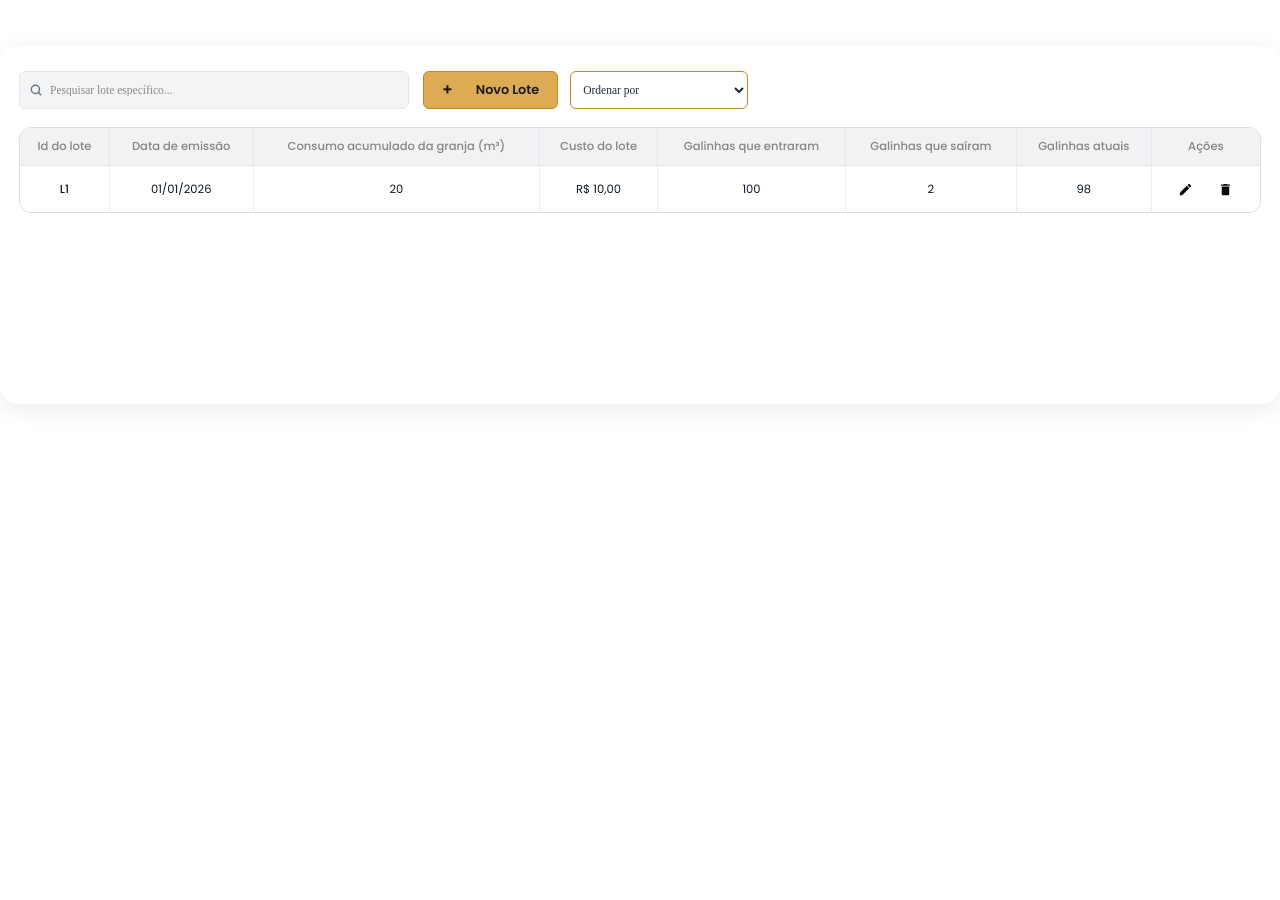
Test: Editar lote L1 › preserva o diálogo quando salvar falha e permite fechar
Click the button named "Editar lote L1" at coordinates (1186, 189), box [1171,174,1201,204]
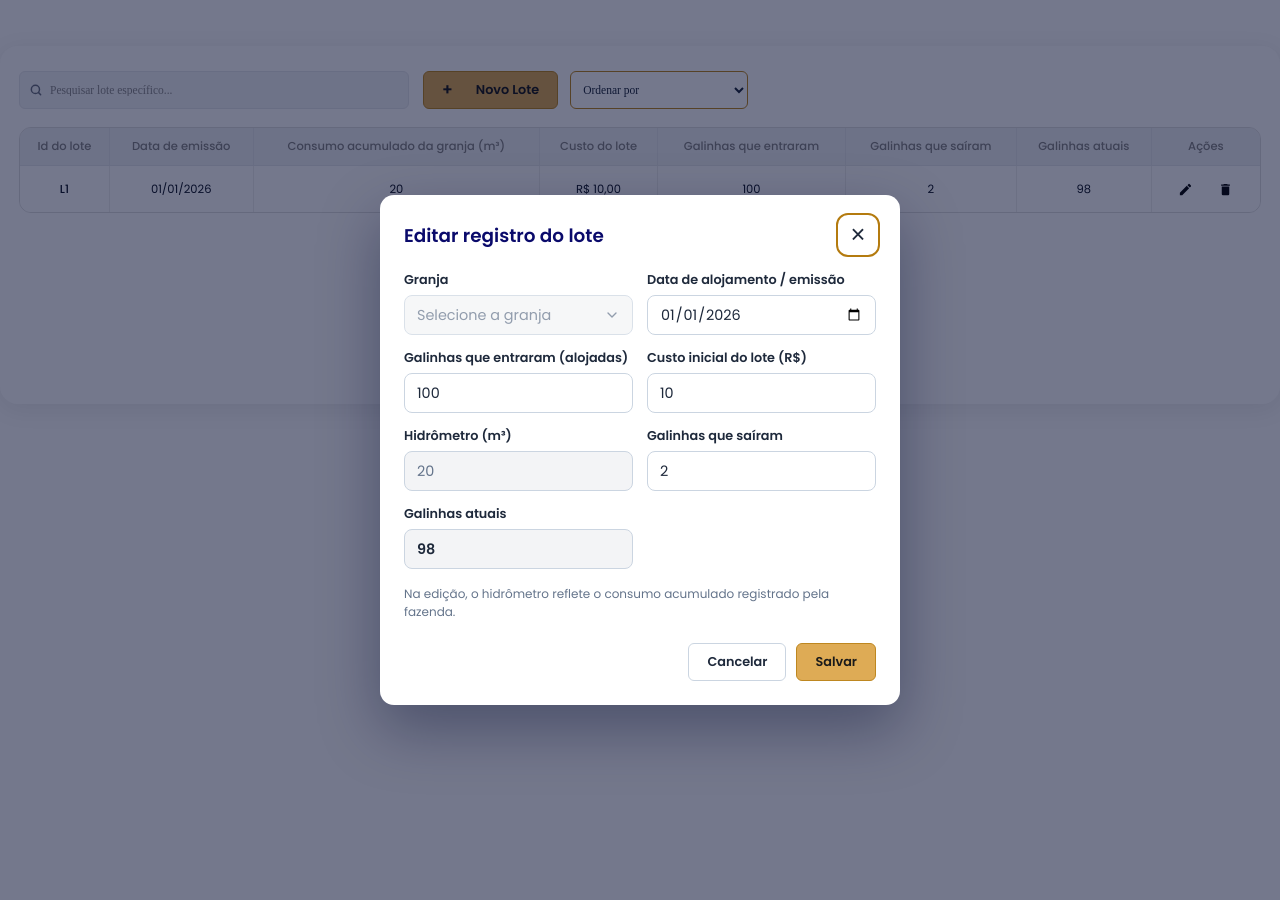
Submit the form, box [404,271,876,681]
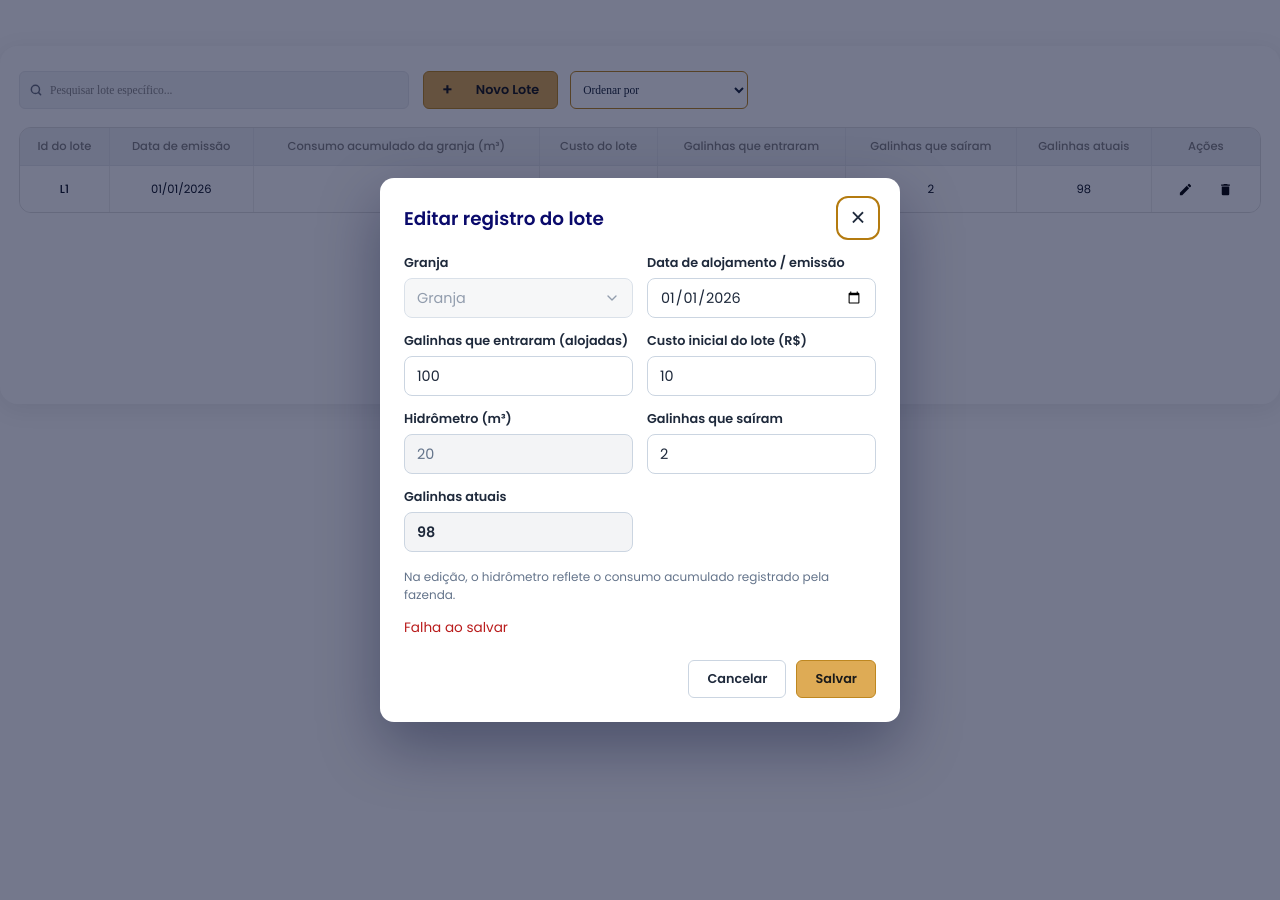
Now the text "Falha ao salvar" is shown, box [404,618,508,637]
Click the button named "Fechar" at coordinates (858, 218), box [840,200,876,236]
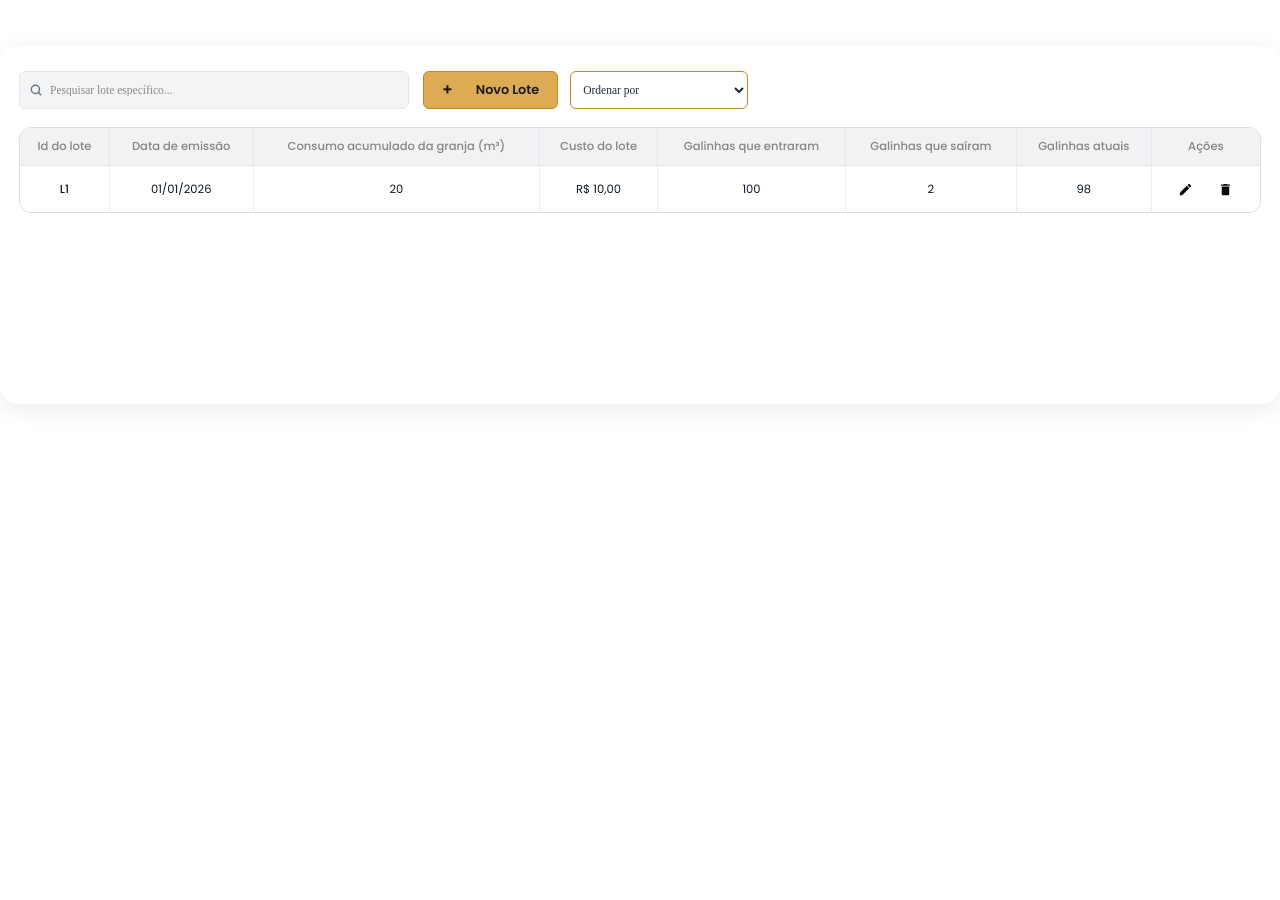
Now the dialog is gone
